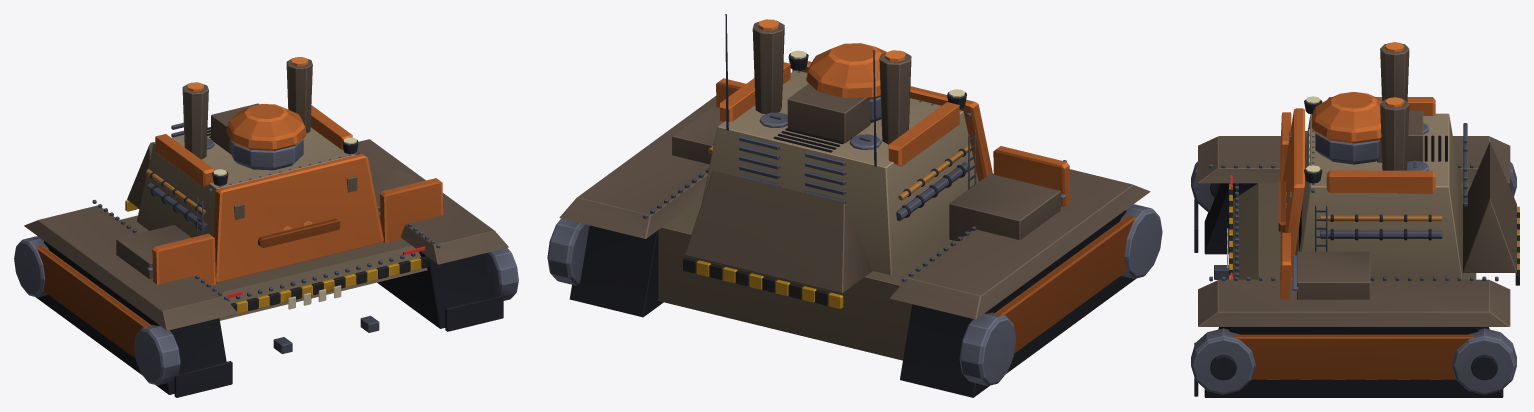
Rendered from dreadnought.glb.
3 renders of one model, left to right at view 1: azimuth 30°, elevation 25°; view 2: azimuth 150°, elevation 25°; view 3: azimuth 270°, elevation 25°, orthographic. The views are drawn at different scales.
Visible parts, largest first — view 1: dread_hull_body, dread_plates_body, dread_hull_glow; view 2: dread_hull_body, dread_plates_body, dread_hull_glow; view 3: dread_hull_body, dread_plates_body, dread_hull_glow.
Part boxes in pixels (bbox=[...]): dread_hull_body: bbox=[14, 58, 518, 397]; dread_plates_body: bbox=[36, 104, 443, 358]; dread_hull_glow: bbox=[187, 57, 425, 298]; dread_hull_body: bbox=[547, 14, 1162, 397]; dread_plates_body: bbox=[716, 43, 1135, 353]; dread_hull_glow: bbox=[758, 19, 1063, 207]; dread_hull_body: bbox=[1191, 43, 1519, 397]; dread_plates_body: bbox=[1234, 92, 1473, 379]; dread_hull_glow: bbox=[1230, 42, 1404, 291].
Bounding box in the file's own units: 33.3 × 21.4 × 24.19.
